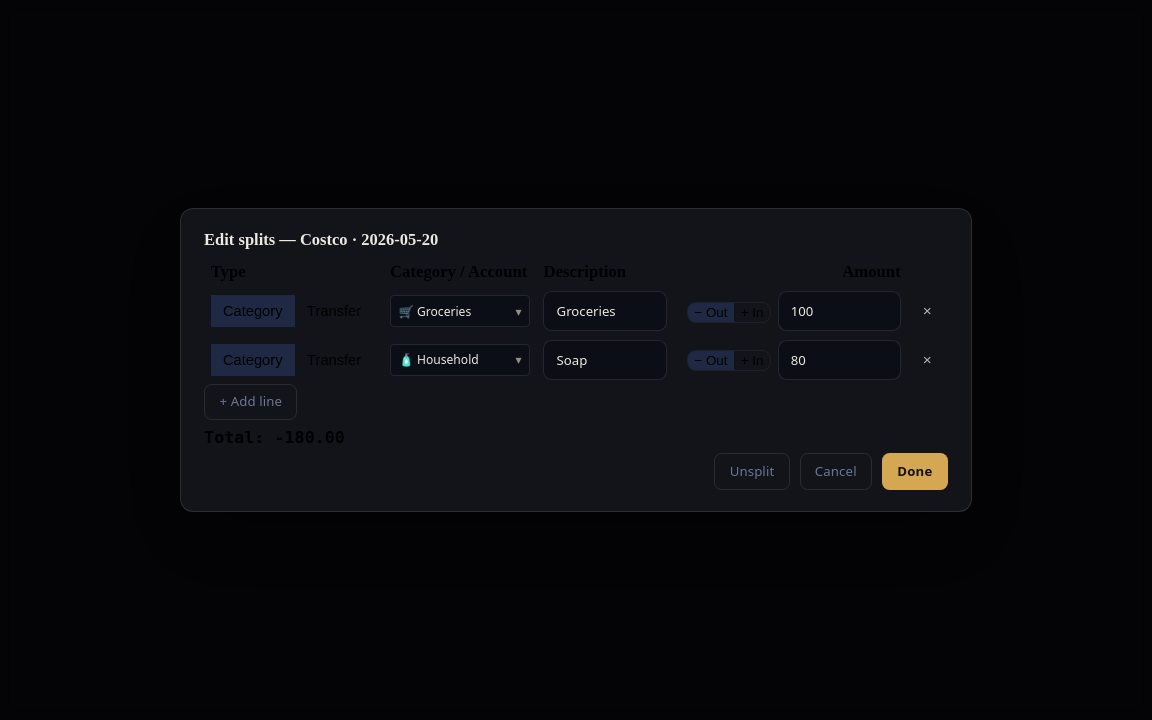
Scenario: SplitsEditor +Add / ×Delete › Delete is enabled at 2 lines and disabled once only 1 remains
Click the button named "delete line".
click(927, 311)  # box [914, 301, 940, 321]
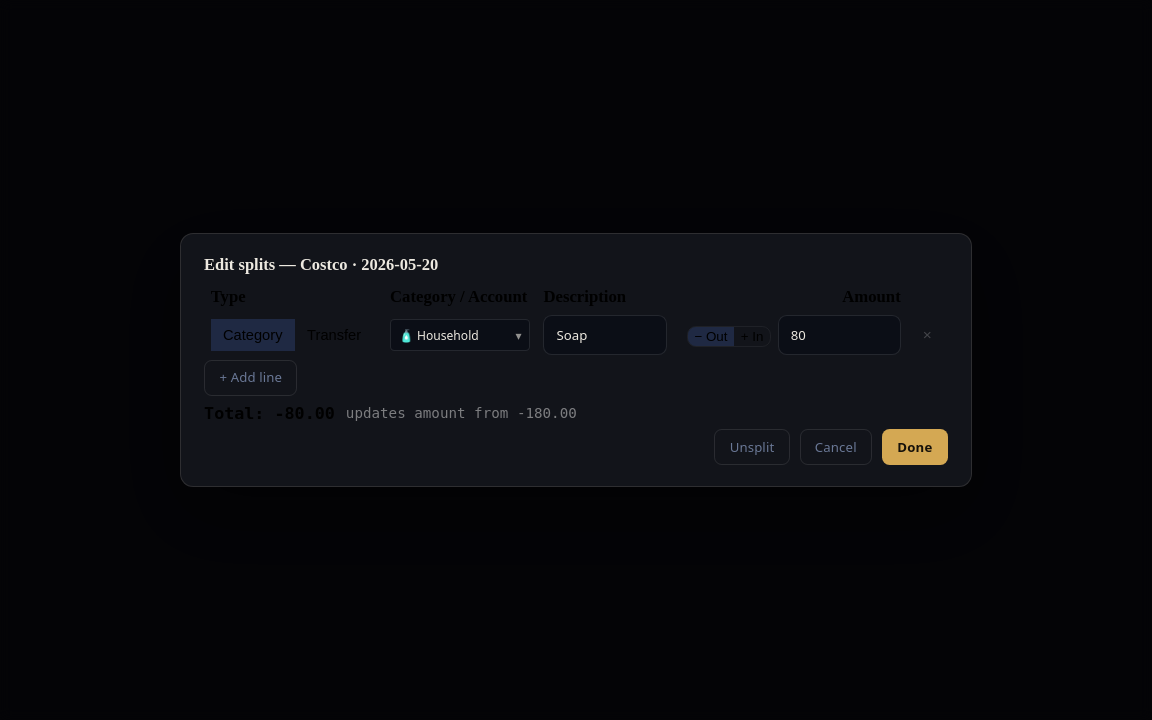
Result: the button named "delete line" is disabled at [914, 325, 940, 345]
